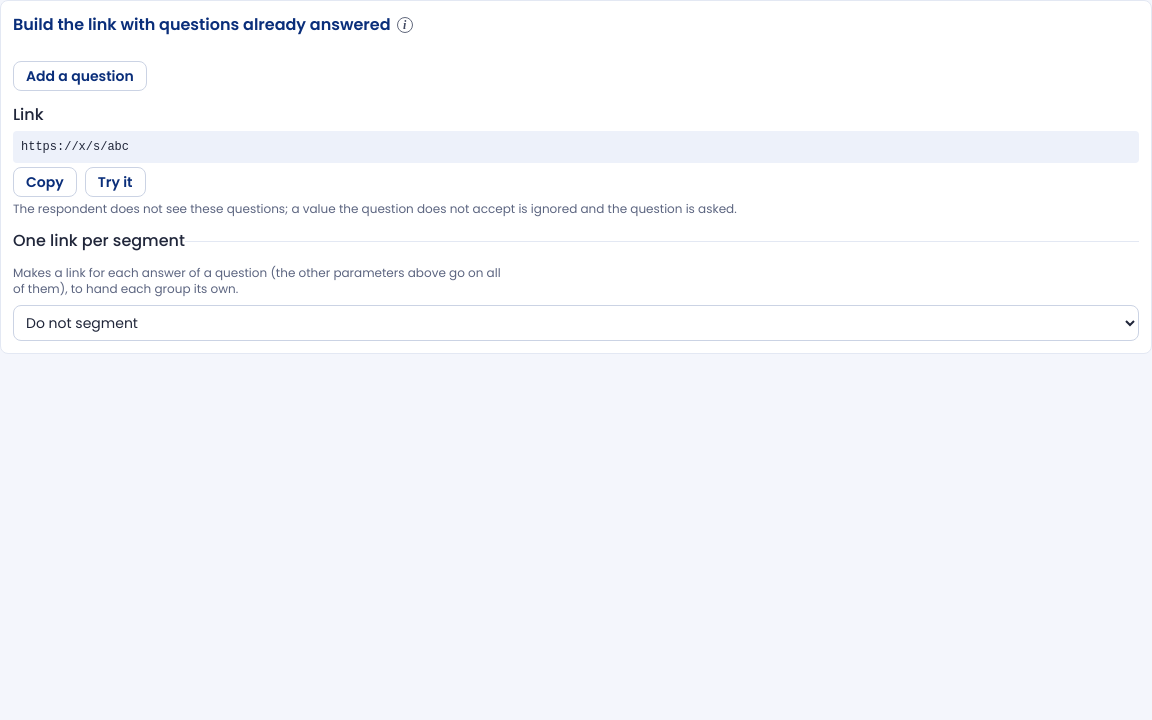
Test: the link builder › builds the address, marks a value the survey would drop, and makes a link per segment
Click the button "Add a question" at (80, 76), box x1=13 y1=61 x2=147 y2=91
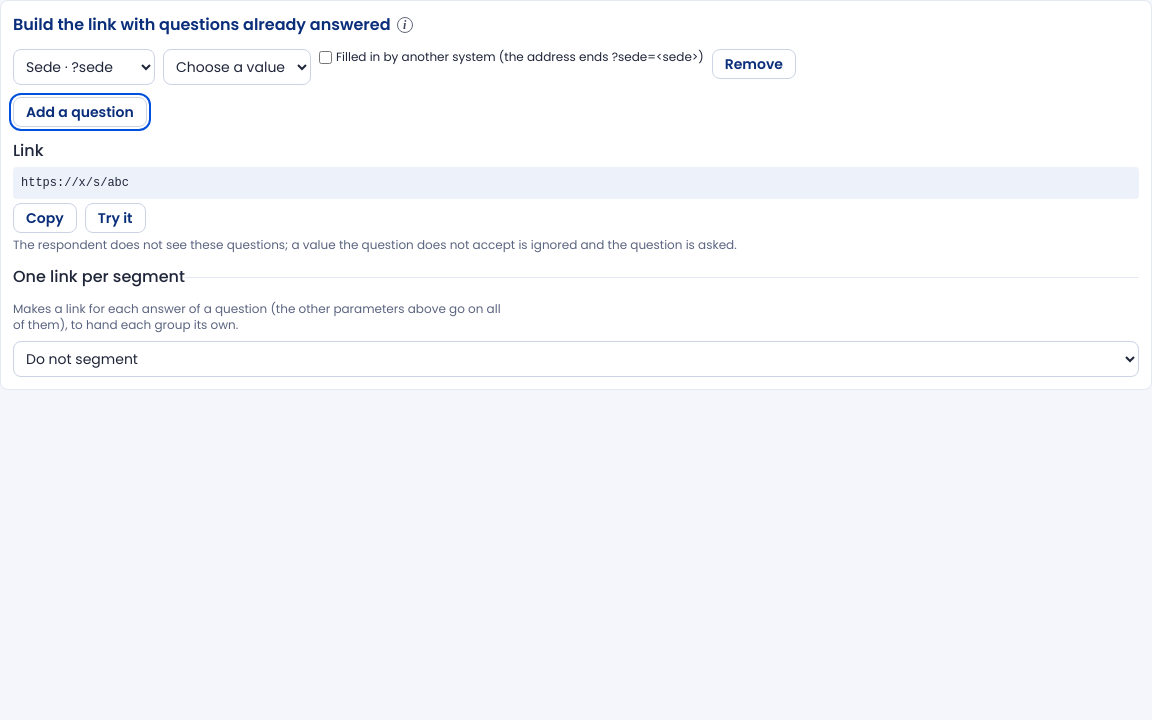
Select "Cusco (2)" in the dropdown named "Value of ?sede" at (237, 67), box x1=163 y1=49 x2=311 y2=85
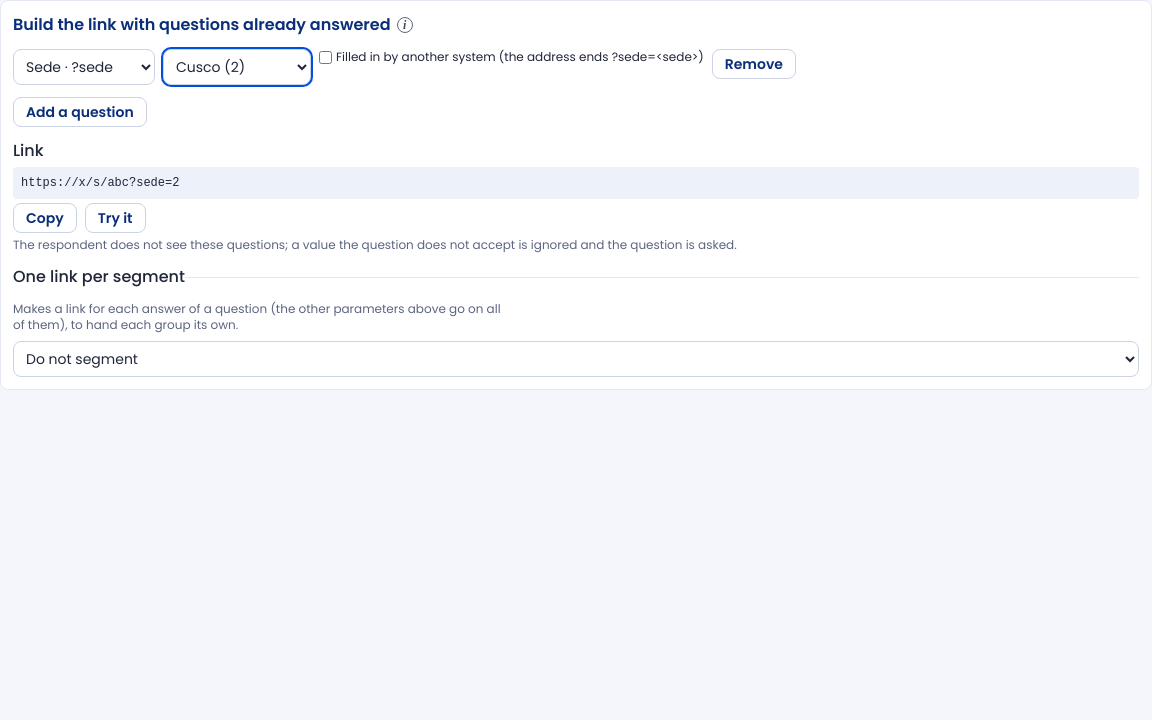
Expected: the text with test id "builder-url" reads "https://x/s/abc?sede=2", x1=21 y1=176 x2=179 y2=190
# A second question, with a value it does not take.
Click the button "Add a question" at (80, 112), box x1=13 y1=97 x2=147 y2=127
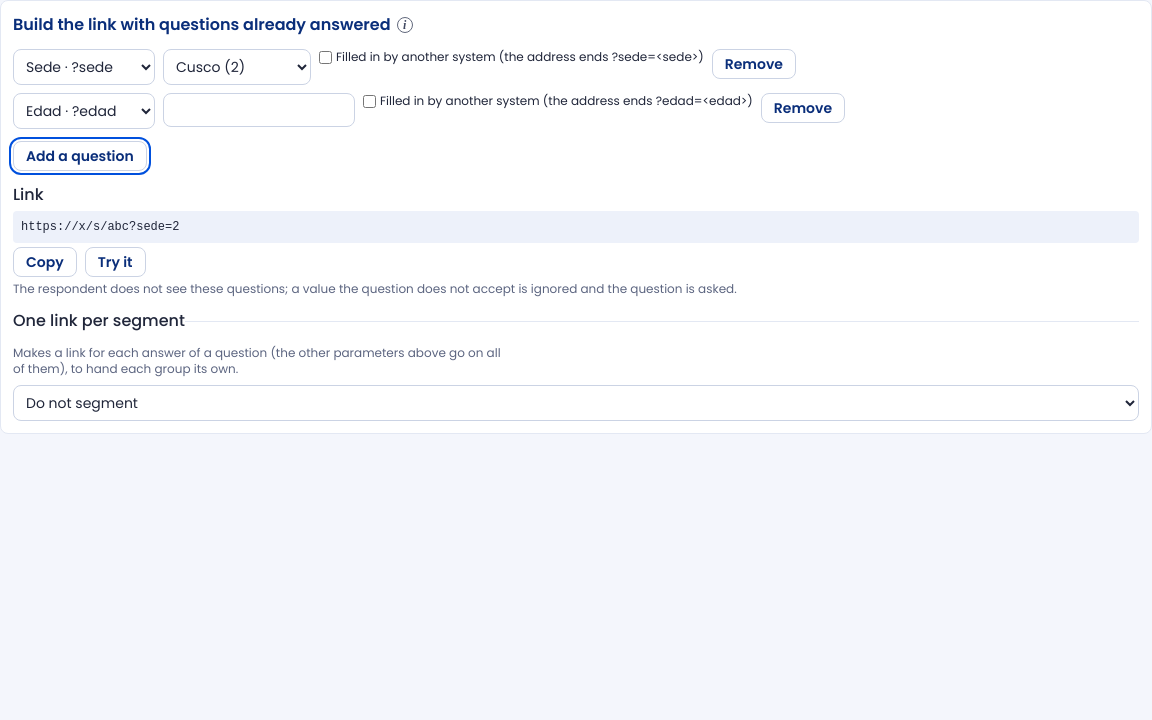
Type "-" into the number field at (259, 110), box x1=163 y1=93 x2=355 y2=127
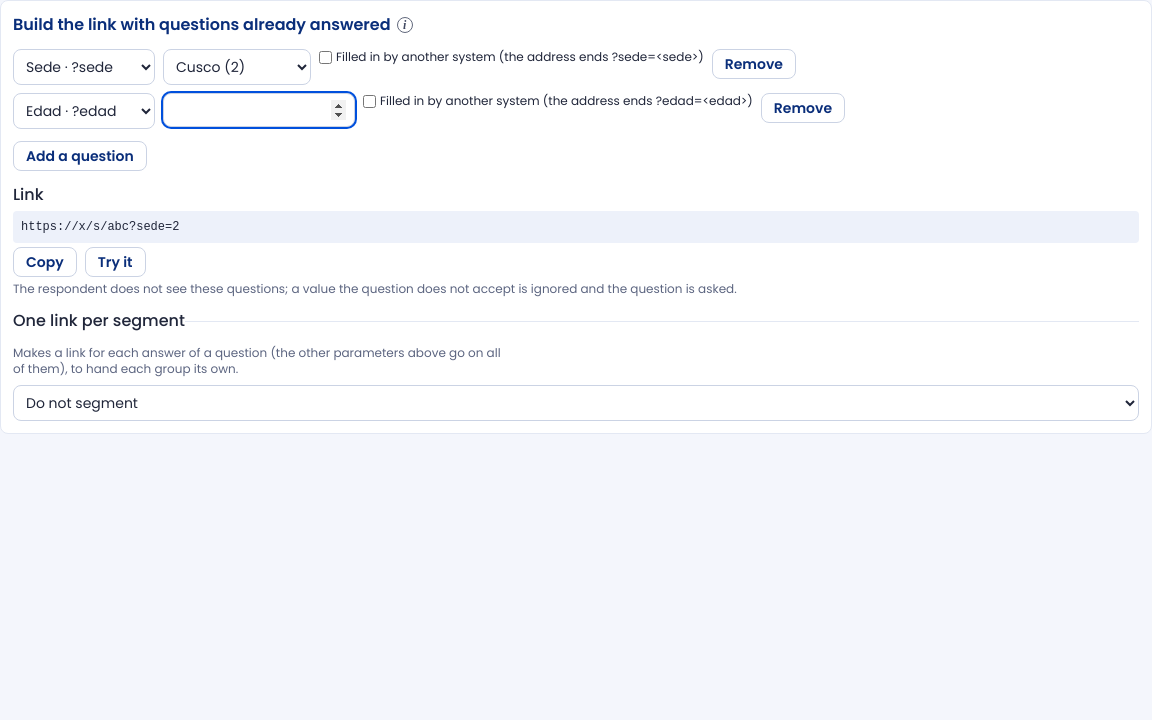
# Segments by group, keeping the branch.
Select "Grupo · ?grupo" in the dropdown named "Segment by" at (576, 403), box x1=13 y1=385 x2=1139 y2=421
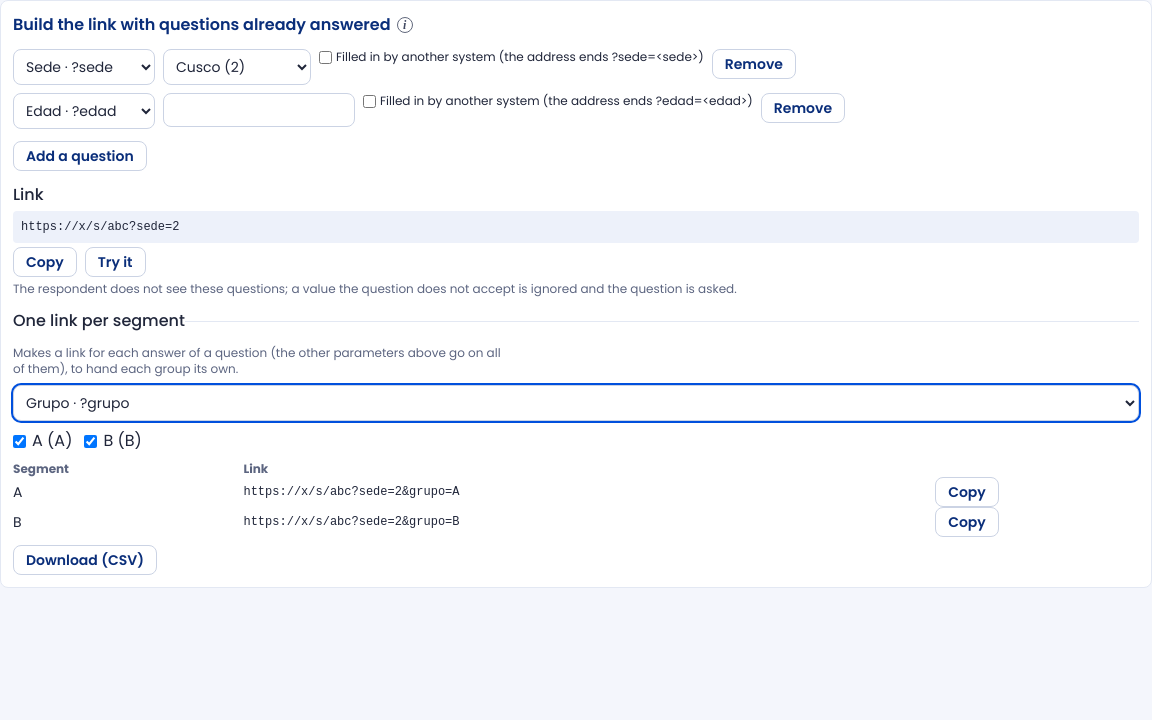
Expected: the number of rows is 3, x1=13 y1=461 x2=1139 y2=477; x1=13 y1=477 x2=1139 y2=507; x1=13 y1=507 x2=1139 y2=537
Expected: the table with test id "segment-links" shows "https://x/s/abc?sede=2&grupo=A", x1=244 y1=485 x2=460 y2=499
Expected: the table with test id "segment-links" shows "https://x/s/abc?sede=2&grupo=B", x1=244 y1=515 x2=460 y2=529
